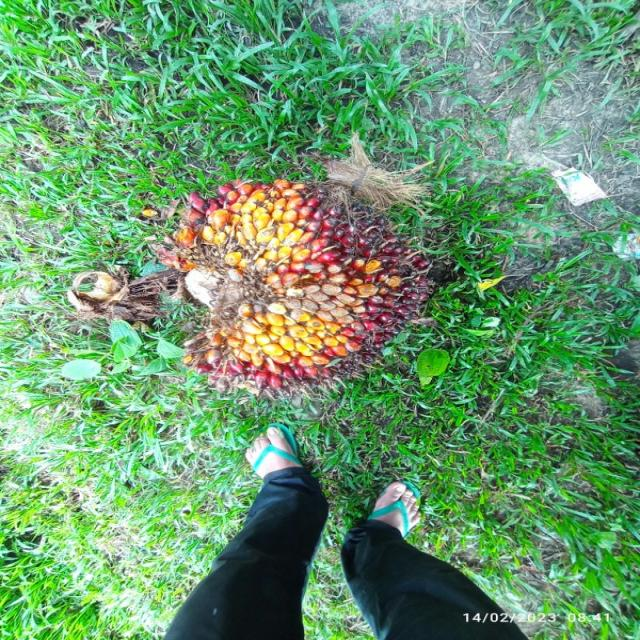fraksi 3: (152, 176, 445, 392)
